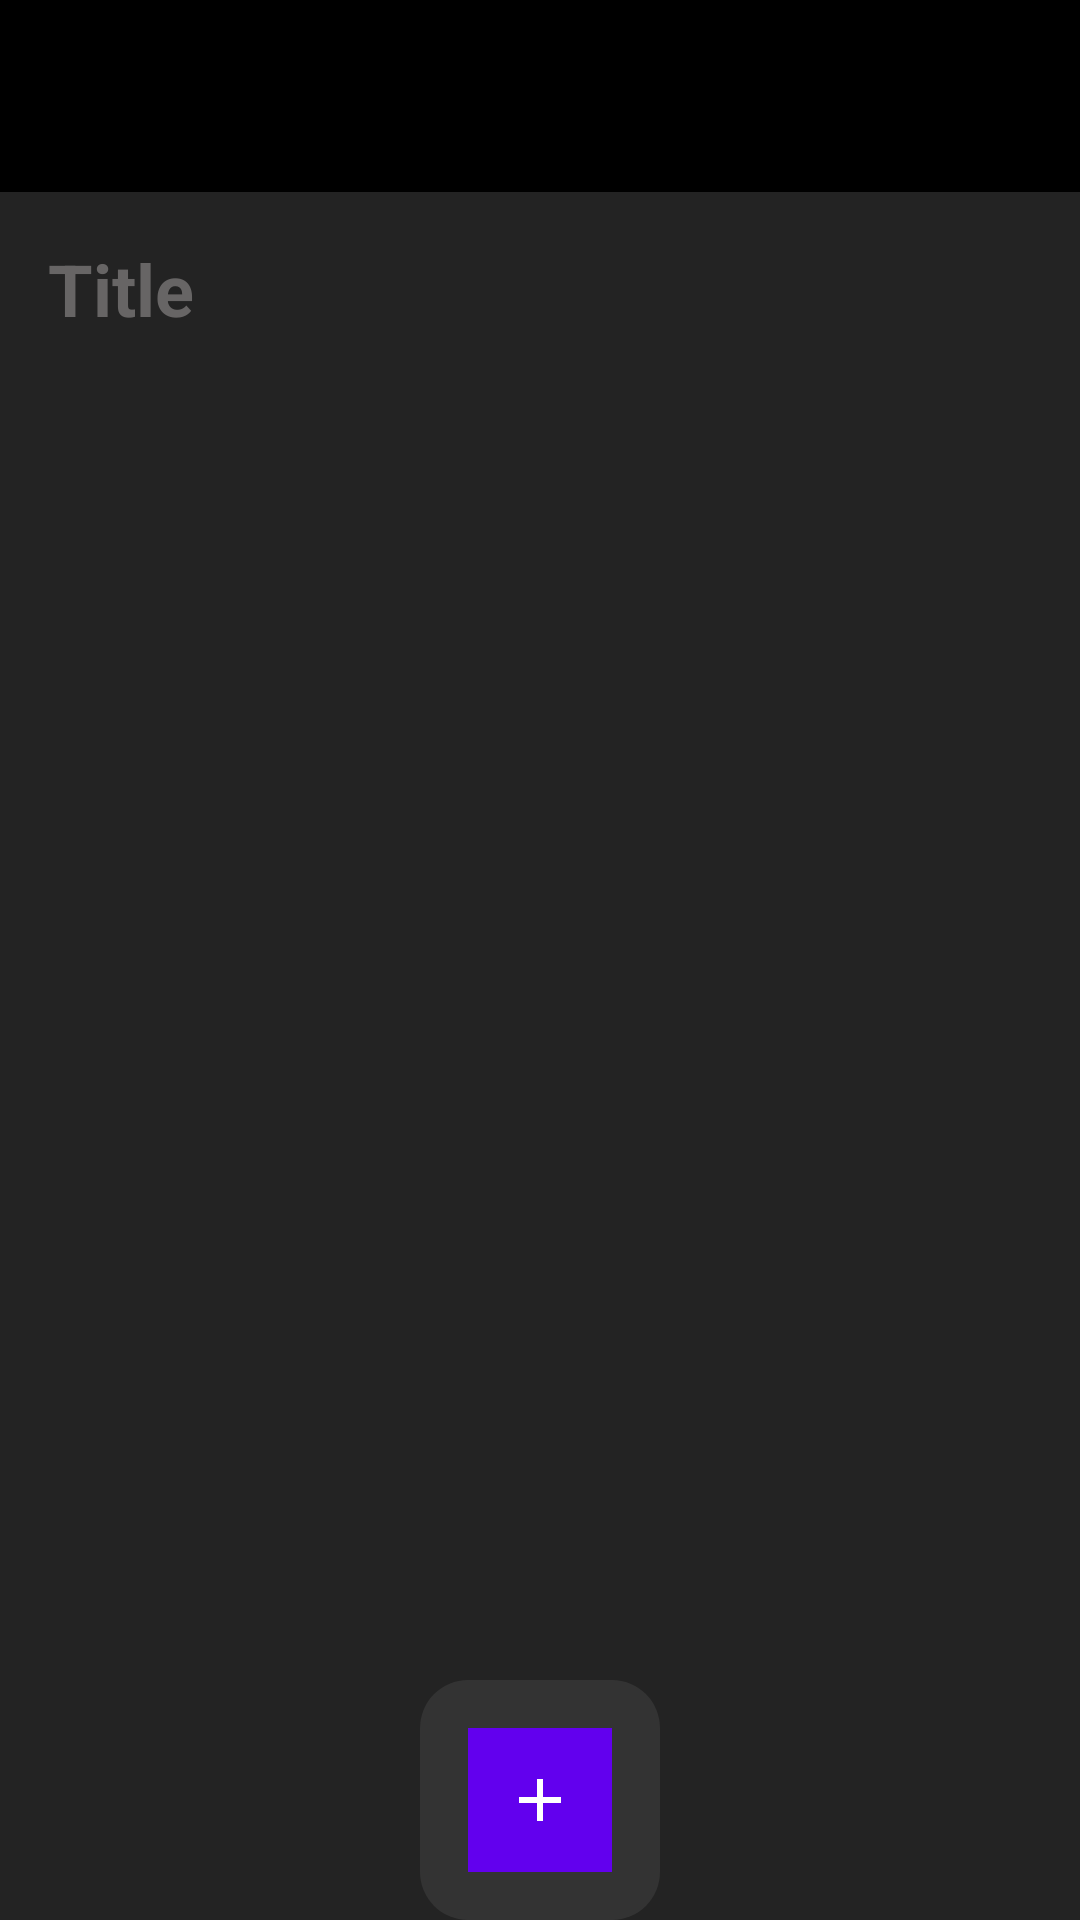

Icons on this 1080*1920 Android screen, each with the point to tap as (x=x, y=y):
Add New Item: (x=540, y=1800)
